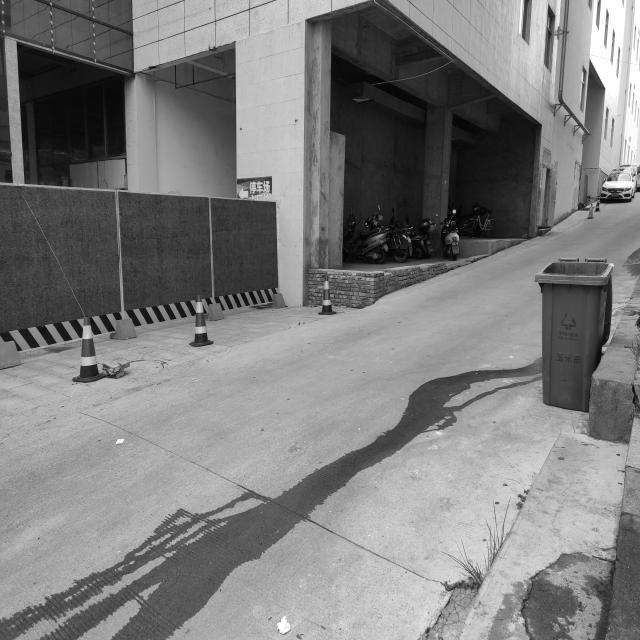ash bin: (534, 253, 617, 417)
bicycle: (470, 206, 496, 237)
car: (600, 169, 628, 203)
motorbike: (365, 203, 413, 262), (344, 204, 390, 264), (390, 208, 430, 260), (435, 208, 460, 260)
reflective_cone: (69, 315, 106, 383), (189, 294, 214, 347), (317, 275, 337, 315), (586, 203, 594, 219), (594, 196, 601, 211)
